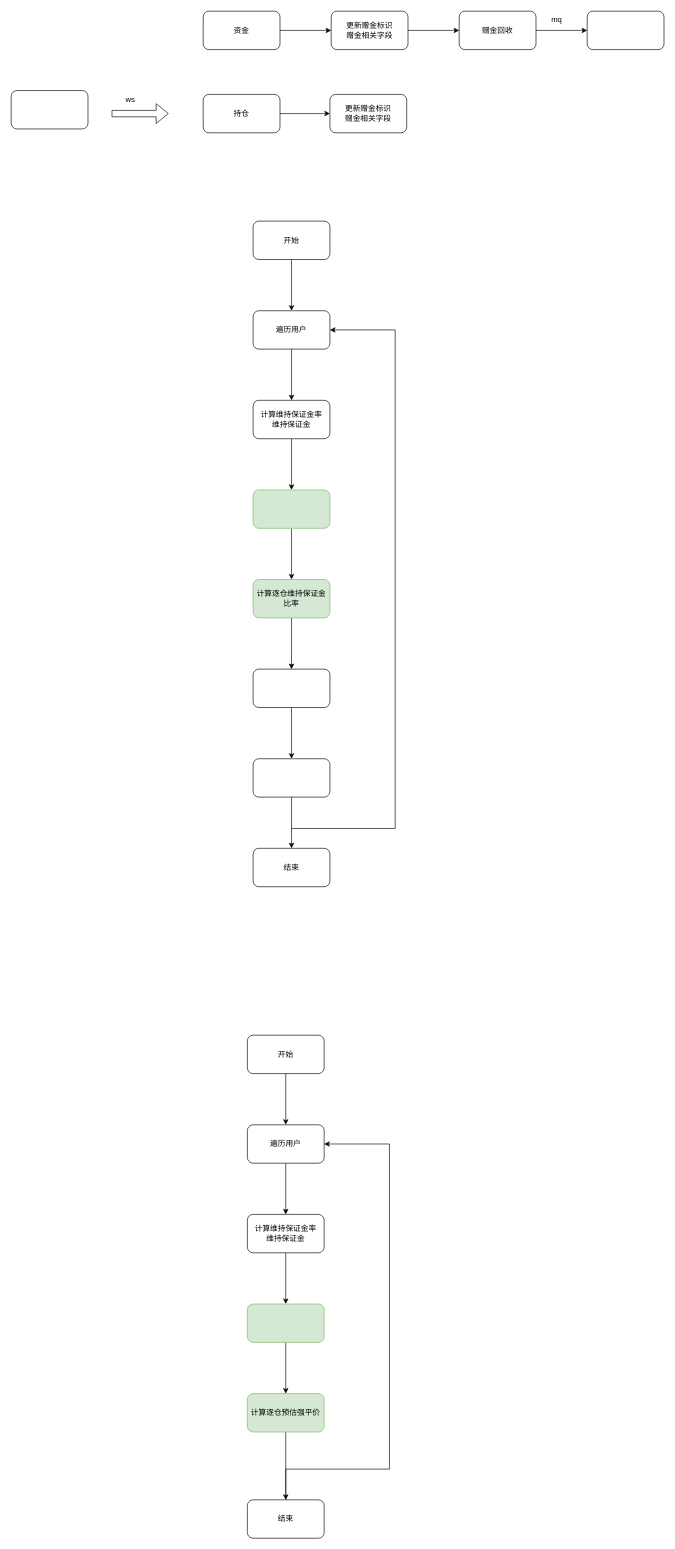
Image size: 675x1549. Some labels were removed from this diagram. The centre of each missing label's shape, as x and y in pixels:
"core trade" goes at point 49,109.
"全仓强平 计算破产价 减仓数量" goes at point 291,688.
"服务端" goes at point 625,30.
"计算全仓维持保证金比率" goes at point 291,508.
"计算全仓预估强平价" goes at point 285,1322.
"逐仓强平 计算破产价 减仓数量" goes at point 291,777.
